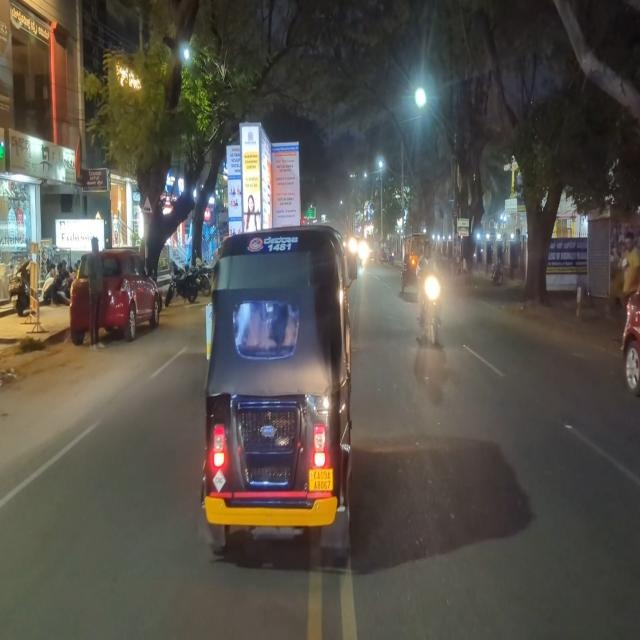bien_nguy_hiem: (140, 195, 154, 215)
